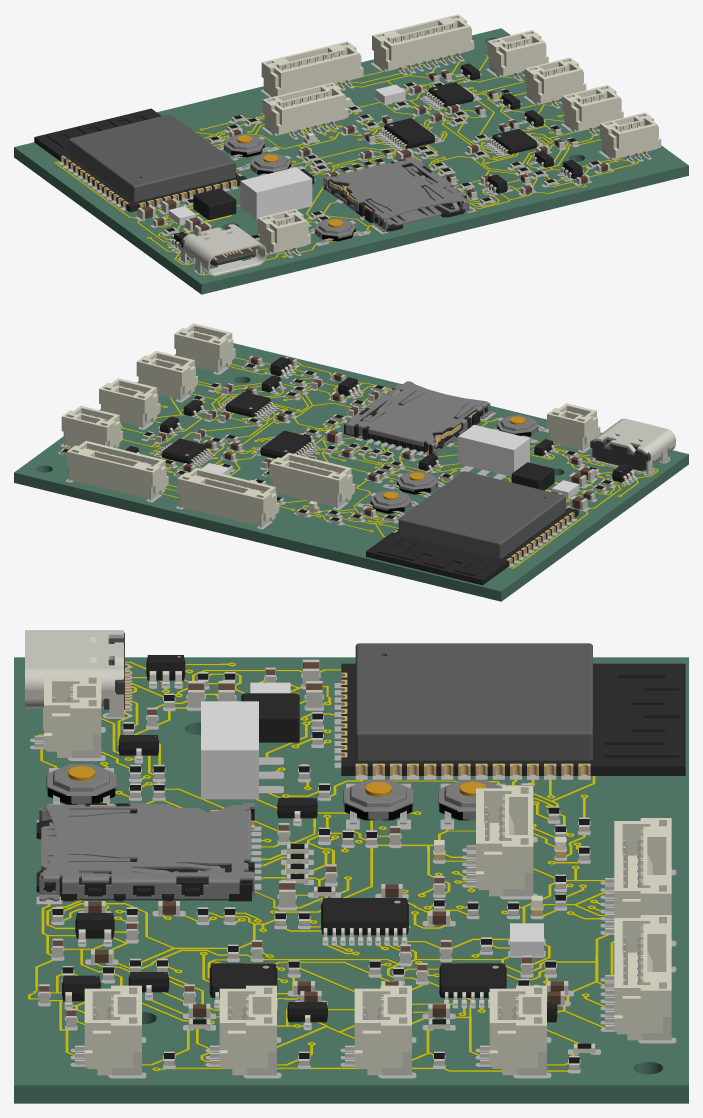
Rendered from main.glb.
3 renders of one model, top to bottom at view 1: azimuth 30°, elevation 25°; view 2: azimuth 150°, elevation 25°; view 3: azimuth 270°, elevation 25°, orthographic. The views are drawn at different scales.
Visible parts, largest first — view 1: =>[0:1:1:47], =>[0:1:1:35], =>[0:1:1:3] (×4), =>[0:1:1:21] (×2), =>[0:1:1:13], =>[0:1:1:44], =>[0:1:1:45], =>[0:1:1:43], =>[0:1:1:39], =>[0:1:1:33], =>[0:1:1:15] (×3), =>[0:1:1:25] (+4 smaller); view 2: =>[0:1:1:47], =>[0:1:1:35], =>[0:1:1:3] (×4), =>[0:1:1:21] (×2), =>[0:1:1:13], =>[0:1:1:44], =>[0:1:1:45], =>[0:1:1:43], =>[0:1:1:39], =>[0:1:1:33], =>[0:1:1:15] (×3), =>[0:1:1:25] (+3 smaller); view 3: =>[0:1:1:47], =>[0:1:1:35], =>[0:1:1:3] (×4), =>[0:1:1:13], =>[0:1:1:44], =>[0:1:1:45], =>[0:1:1:21] (×2), =>[0:1:1:15] (×3), =>[0:1:1:43], =>[0:1:1:39], =>[0:1:1:33], =>[0:1:1:25] (+7 smaller).
Part boxes in pixels (x1,y1,x2,y2): =>[0:1:1:47]: (14, 28, 688, 294); =>[0:1:1:35]: (34, 108, 246, 212); =>[0:1:1:3] (×4): (487, 30, 661, 161); =>[0:1:1:21] (×2): (261, 14, 474, 96); =>[0:1:1:13]: (323, 156, 472, 232); =>[0:1:1:44]: (54, 56, 644, 275); =>[0:1:1:45]: (58, 55, 651, 274); =>[0:1:1:43]: (262, 82, 348, 137); =>[0:1:1:39]: (180, 224, 266, 276); =>[0:1:1:33]: (240, 167, 312, 219); =>[0:1:1:15] (×3): (216, 133, 364, 243); =>[0:1:1:25]: (257, 209, 310, 256); =>[0:1:1:47]: (14, 343, 688, 601); =>[0:1:1:35]: (366, 471, 578, 585); =>[0:1:1:3] (×4): (61, 323, 235, 447); =>[0:1:1:21] (×2): (66, 441, 279, 527); =>[0:1:1:13]: (344, 381, 492, 454); =>[0:1:1:44]: (66, 357, 670, 568); =>[0:1:1:45]: (58, 361, 670, 567); =>[0:1:1:43]: (269, 452, 354, 508); =>[0:1:1:39]: (590, 418, 675, 474); =>[0:1:1:33]: (458, 424, 529, 476); =>[0:1:1:15] (×3): (362, 415, 545, 515); =>[0:1:1:25]: (547, 403, 600, 450); =>[0:1:1:47]: (14, 657, 688, 1103); =>[0:1:1:35]: (341, 643, 685, 775); =>[0:1:1:3] (×4): (75, 985, 546, 1075); =>[0:1:1:13]: (36, 802, 254, 901); =>[0:1:1:44]: (28, 661, 614, 1071); =>[0:1:1:45]: (30, 663, 676, 1078); =>[0:1:1:21] (×2): (605, 818, 671, 1040); =>[0:1:1:15] (×3): (46, 764, 502, 824); =>[0:1:1:43]: (466, 785, 533, 896); =>[0:1:1:39]: (25, 630, 130, 717); =>[0:1:1:33]: (201, 701, 258, 799); =>[0:1:1:25]: (34, 675, 101, 757).
Bounding box in the file's own units: 0.075 × 0.00583 × 0.05.
